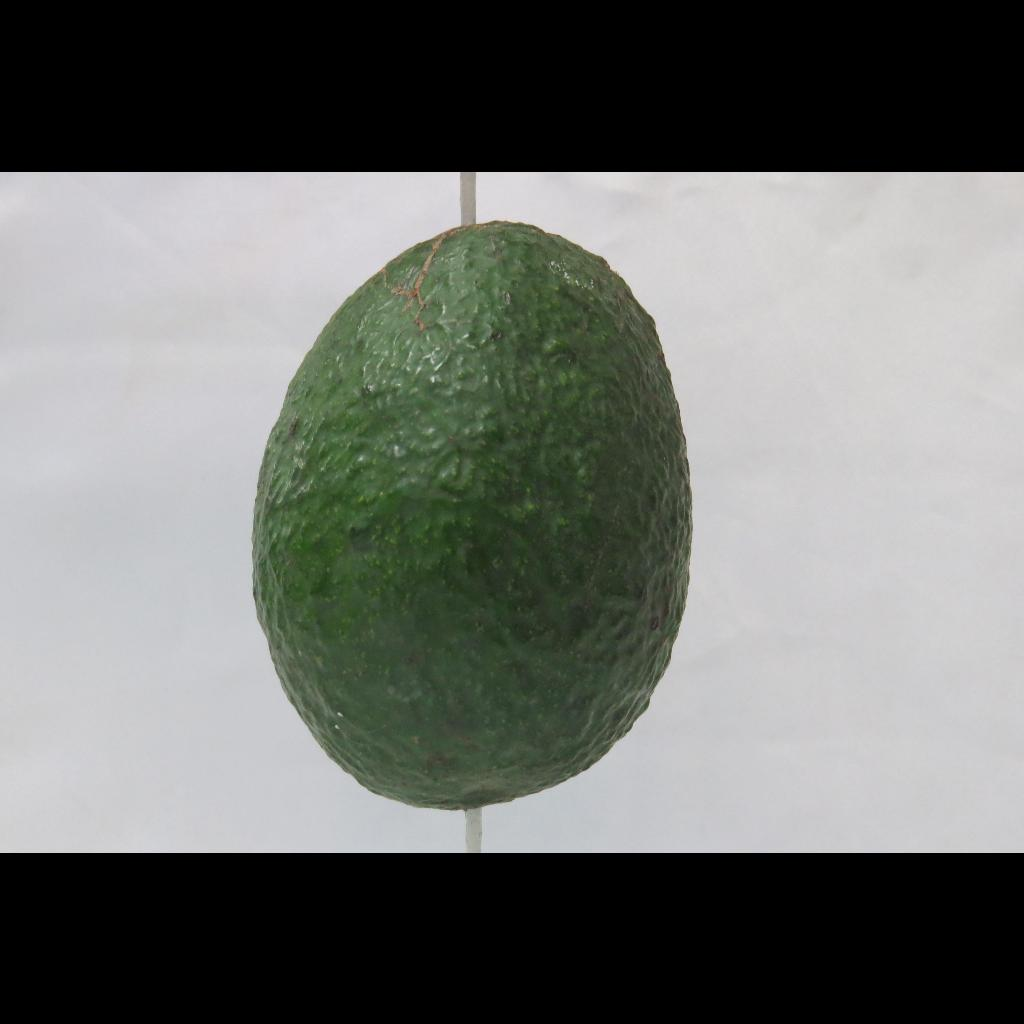fruto_sano: (213, 194, 754, 833)
